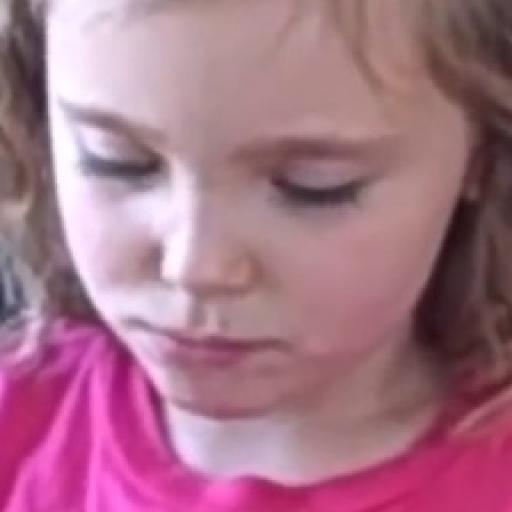Autism: (0, 0, 512, 457)
